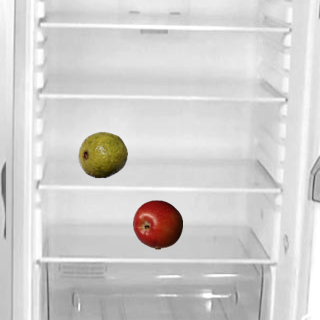Apple Braeburn: (132, 199, 182, 249)
Guava: (77, 129, 127, 179)
